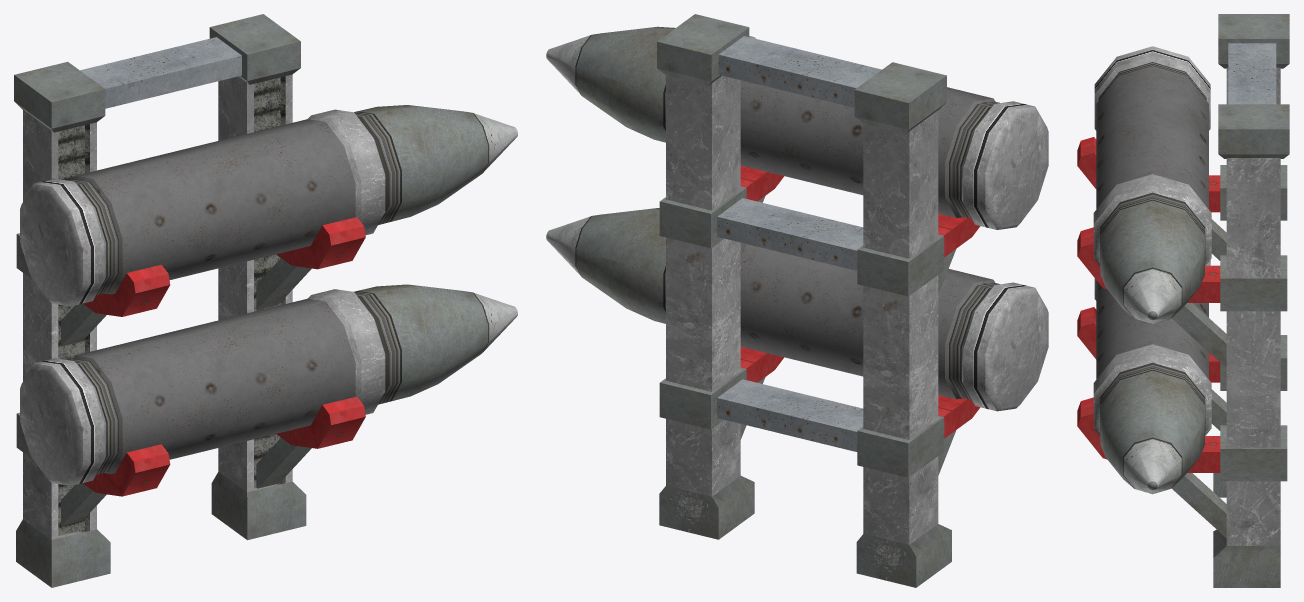
The model's file is Ob_MissileRack_RC.fbx.
The picture shows the model from 3 angles, left to right: view 1: azimuth 30°, elevation 25°; view 2: azimuth 150°, elevation 25°; view 3: azimuth 270°, elevation 25°; orthographic projection. The views are drawn at different scales.
Visible parts, largest first — view 1: Ob_MissileRack_RC; view 2: Ob_MissileRack_RC; view 3: Ob_MissileRack_RC.
Boxes of the visible parts, x1,y1,x2,y2 form: Ob_MissileRack_RC: (14, 14, 517, 587); Ob_MissileRack_RC: (546, 14, 1048, 587); Ob_MissileRack_RC: (1077, 14, 1289, 587).
Size of the model in its own units: 633 by 625 by 263.
